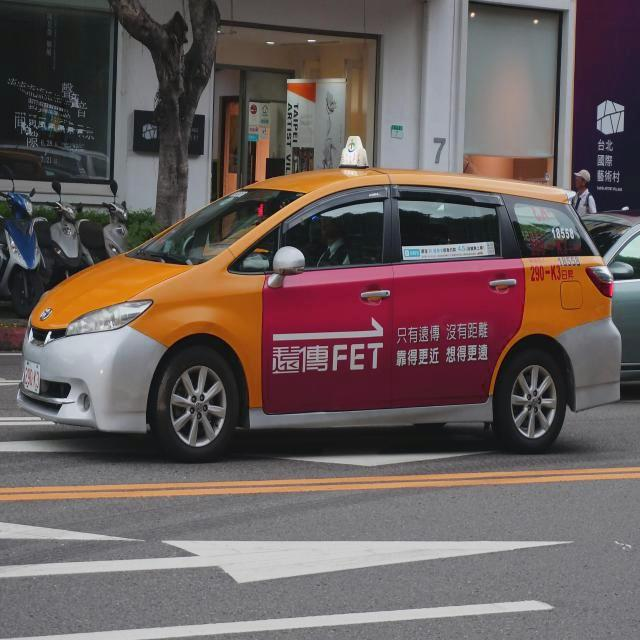taxi: (36, 108, 626, 464)
